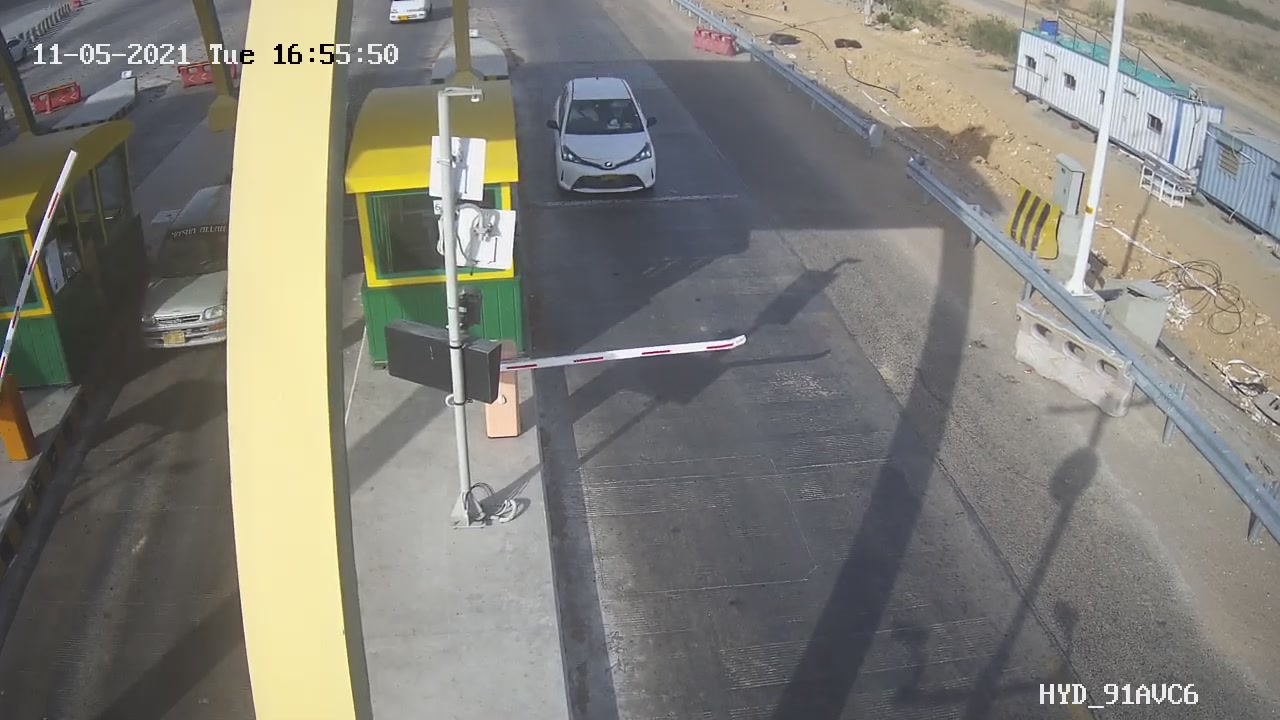F1: (534, 62, 678, 213)
